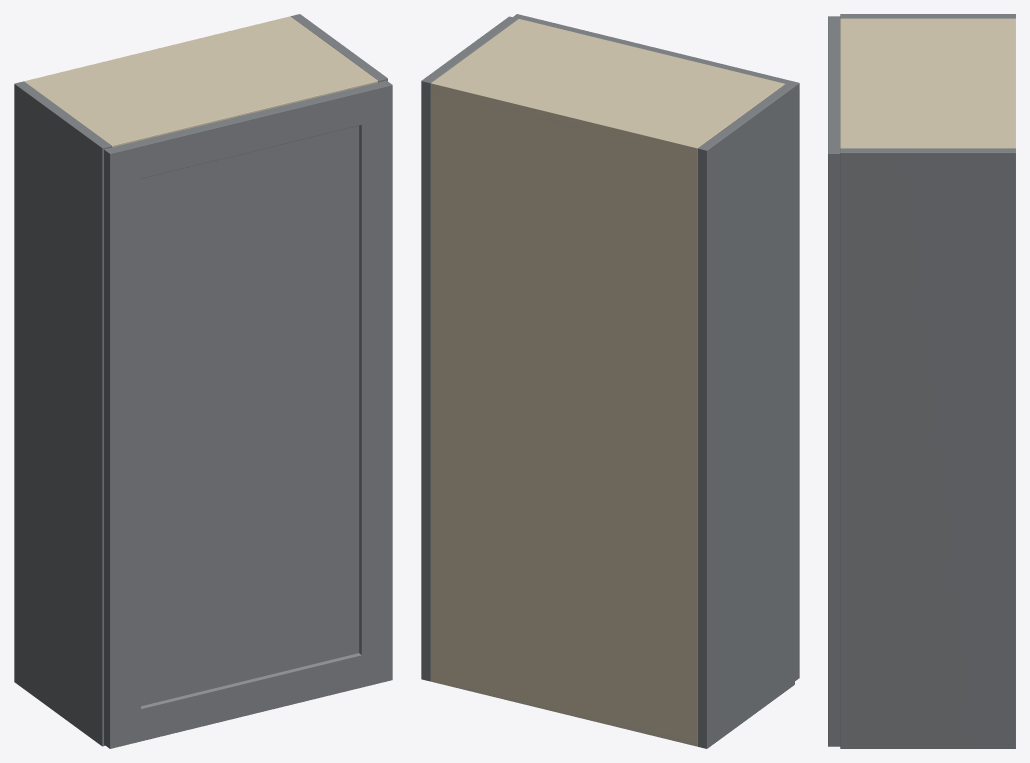
File: oppein-ply-gss-w2142.glb
The picture shows the model from 3 angles, left to right: view 1: azimuth 30°, elevation 25°; view 2: azimuth 150°, elevation 25°; view 3: azimuth 270°, elevation 25°; orthographic projection.
Visible parts, largest first — view 1: Door, Cabinet side, Cabinet top, Cabinet side.001; view 2: Cabinet back, Cabinet side, Cabinet top, Cabinet side.001, Door, Cabinet bottom; view 3: Cabinet side.001, Cabinet top, Door, Cabinet side.
Part boxes in pixels (x1,y1,x2,y2): Door: [104, 80, 392, 748]; Cabinet side: [14, 81, 111, 746]; Cabinet top: [24, 16, 378, 147]; Cabinet side.001: [291, 14, 387, 82]; Cabinet back: [431, 83, 697, 746]; Cabinet side: [697, 84, 794, 748]; Cabinet top: [431, 19, 784, 156]; Cabinet side.001: [421, 16, 518, 681]; Door: [513, 14, 799, 680]; Cabinet bottom: [431, 678, 697, 746]; Cabinet side.001: [840, 148, 1015, 748]; Cabinet top: [840, 18, 1015, 148]; Door: [828, 16, 840, 746]; Cabinet side: [840, 14, 1015, 18].
Size of the model in its own units: 0.5334 by 1.07 by 0.3048.
